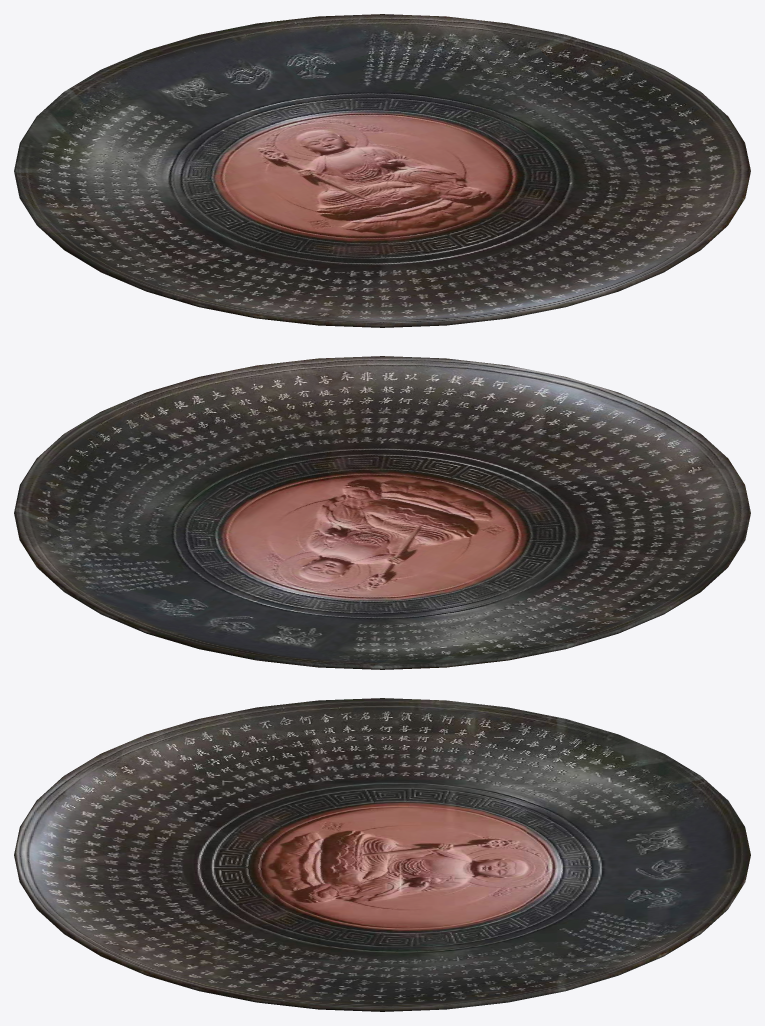
Rendered from DDYB801.FBX.
The picture shows the model from 3 angles, top to bottom: view 1: azimuth 30°, elevation 25°; view 2: azimuth 150°, elevation 25°; view 3: azimuth 270°, elevation 25°; orthographic projection.
Visible parts, largest first — view 1: Cylinder001; view 2: Cylinder001; view 3: Cylinder001.
Boxes of the visible parts, x1,y1,x2,y2 form: Cylinder001: [14, 14, 750, 327]; Cylinder001: [14, 356, 750, 669]; Cylinder001: [14, 698, 750, 1011].
Size of the model in its own units: 181 by 5.27 by 181.
Materials: 2 (2 with a texture image).
